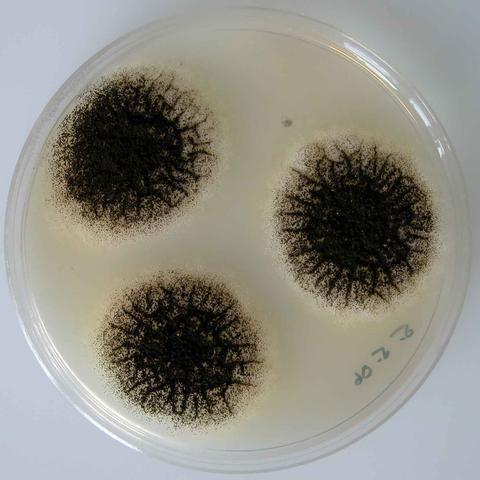Aspergillus: (276, 134, 440, 311), (102, 273, 263, 421), (68, 102, 200, 218)
